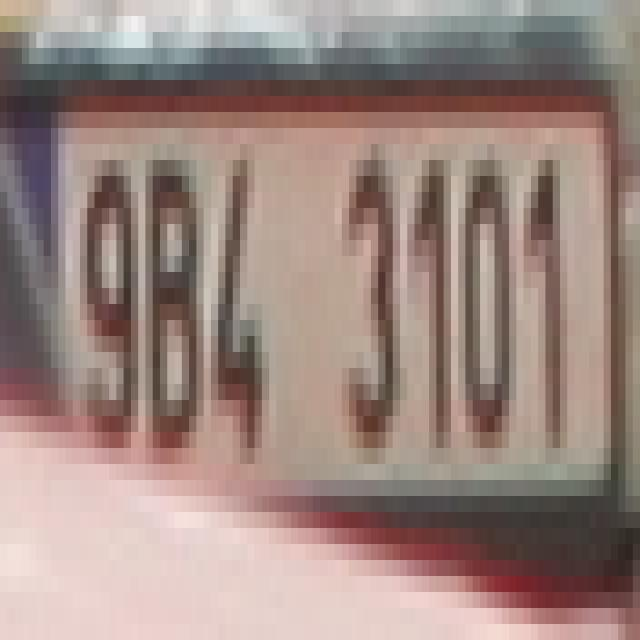0: (458, 144, 516, 448)
1: (400, 144, 451, 432), (516, 144, 560, 448)
2: (335, 144, 400, 448)
4: (211, 160, 276, 480)
9: (80, 160, 138, 464)
B: (138, 144, 196, 448)
